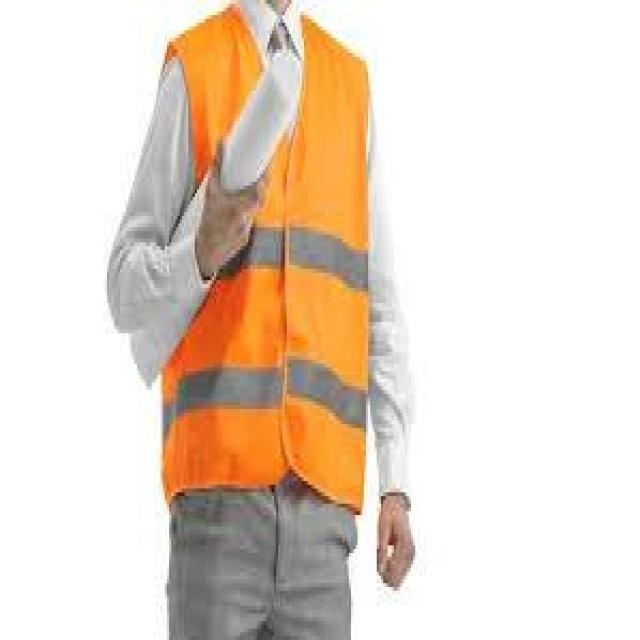vest: (160, 28, 374, 502)
